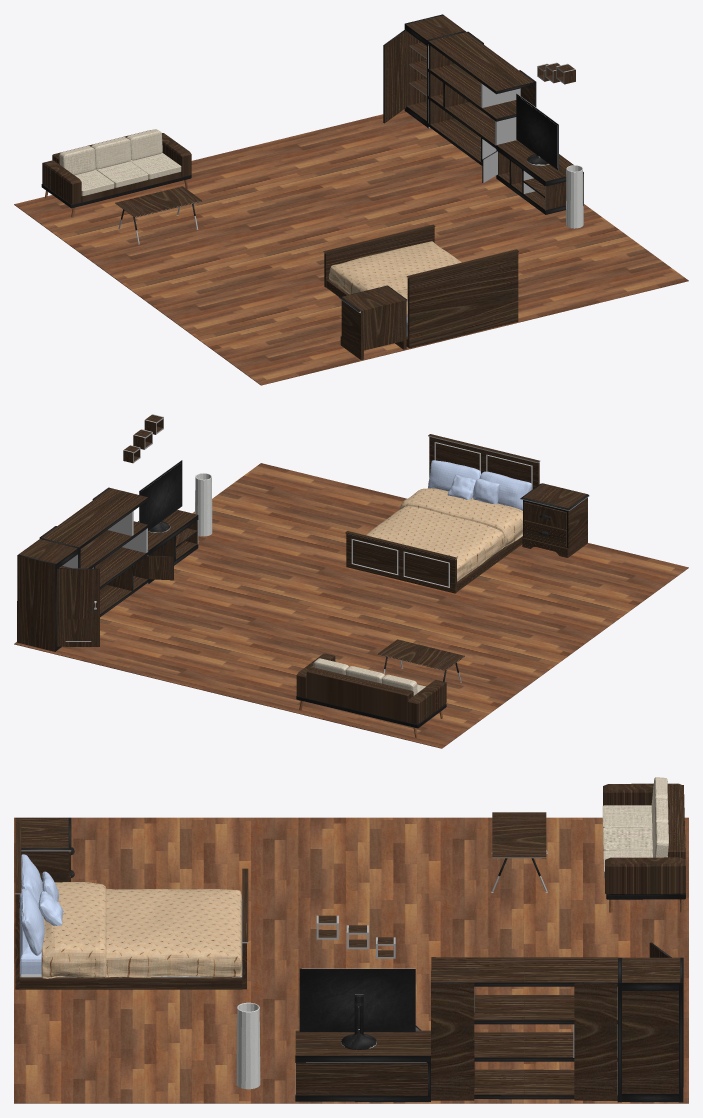
File: T2 Set 2 Pos 8.glb
The picture shows the model from 3 angles, top to bottom: view 1: azimuth 30°, elevation 25°; view 2: azimuth 150°, elevation 25°; view 3: azimuth 270°, elevation 25°; orthographic projection. The views are drawn at different scales.
Bounding box in the file's own units: 0.2923 × 0.0855 × 0.292.
Materials: 9 (8 with a texture image).
